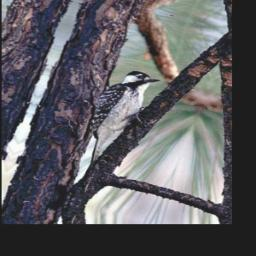Woodpecker: (72, 63, 163, 174)
